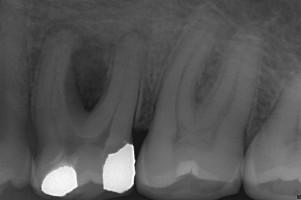Endo-Periodontal Lesion: (70, 40, 109, 112)
